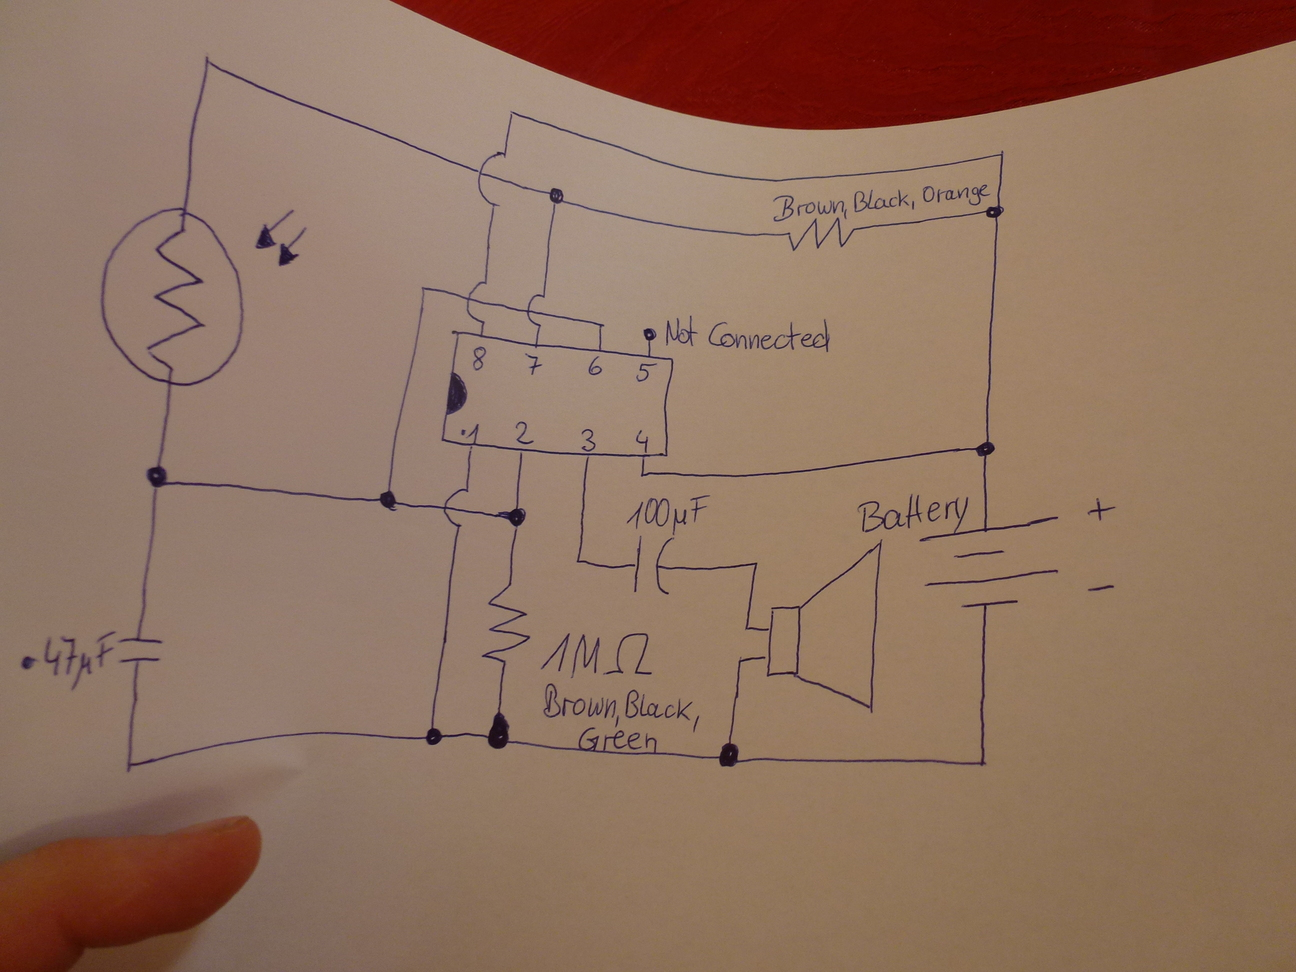capacitor.unpolarized: (621, 534, 678, 600), (111, 631, 164, 671)
crossover: (472, 149, 516, 208), (441, 483, 477, 532), (464, 278, 495, 325), (524, 288, 548, 325)
integrated_circuit: (437, 327, 675, 460)
junction: (480, 711, 515, 756), (141, 458, 175, 494), (713, 739, 741, 770), (196, 45, 220, 77), (503, 504, 529, 531), (971, 435, 999, 459), (420, 722, 446, 747), (377, 488, 400, 512), (546, 184, 567, 206), (984, 202, 1005, 223), (120, 754, 140, 776), (504, 102, 522, 121), (974, 755, 990, 770), (572, 552, 586, 568), (733, 653, 746, 666), (995, 148, 1007, 160), (749, 557, 762, 569), (741, 621, 752, 634), (417, 282, 429, 294), (596, 318, 607, 330), (638, 467, 647, 480)
resistor: (478, 577, 533, 671), (779, 217, 861, 255)
resistor.photo: (92, 205, 312, 388)
speaker: (764, 537, 888, 720)
terminal: (640, 324, 659, 342)
text: (765, 182, 989, 221), (540, 681, 700, 732), (664, 313, 832, 356), (538, 629, 654, 681), (40, 628, 116, 694), (855, 494, 967, 535), (625, 493, 710, 533), (577, 727, 669, 754), (513, 419, 537, 446), (578, 426, 599, 453), (524, 348, 541, 377), (469, 343, 487, 371), (459, 423, 479, 444), (634, 427, 649, 449), (635, 362, 652, 382), (589, 355, 602, 375)
voltage.dc: (915, 495, 1119, 615)
